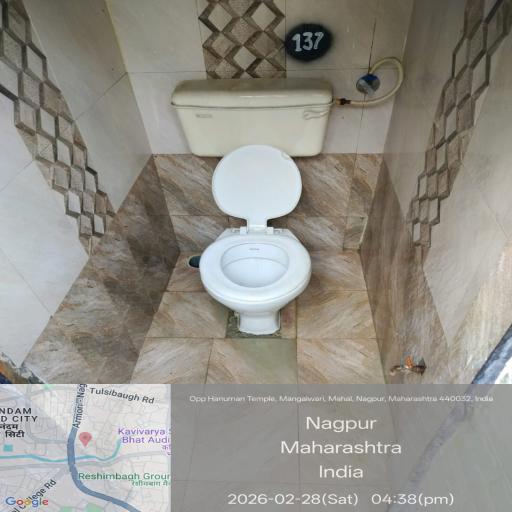clean_floor: (114, 242, 428, 512), (40, 36, 473, 160)
clean_western: (152, 168, 348, 343)
